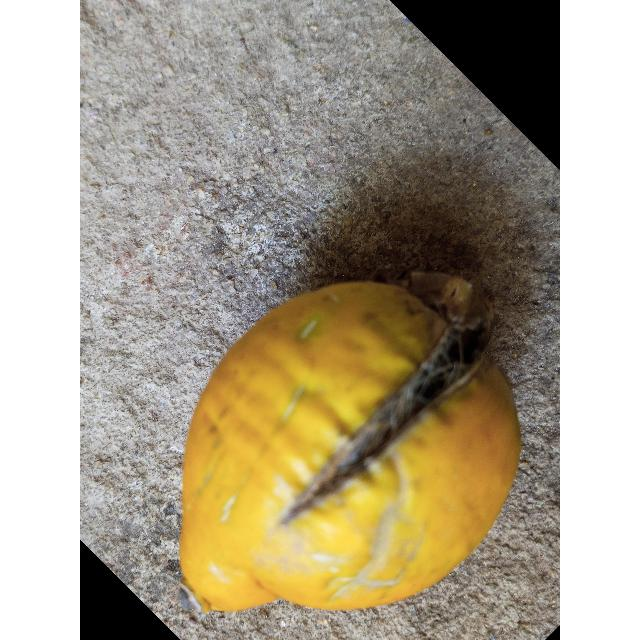damaged: (180, 272, 520, 612)
